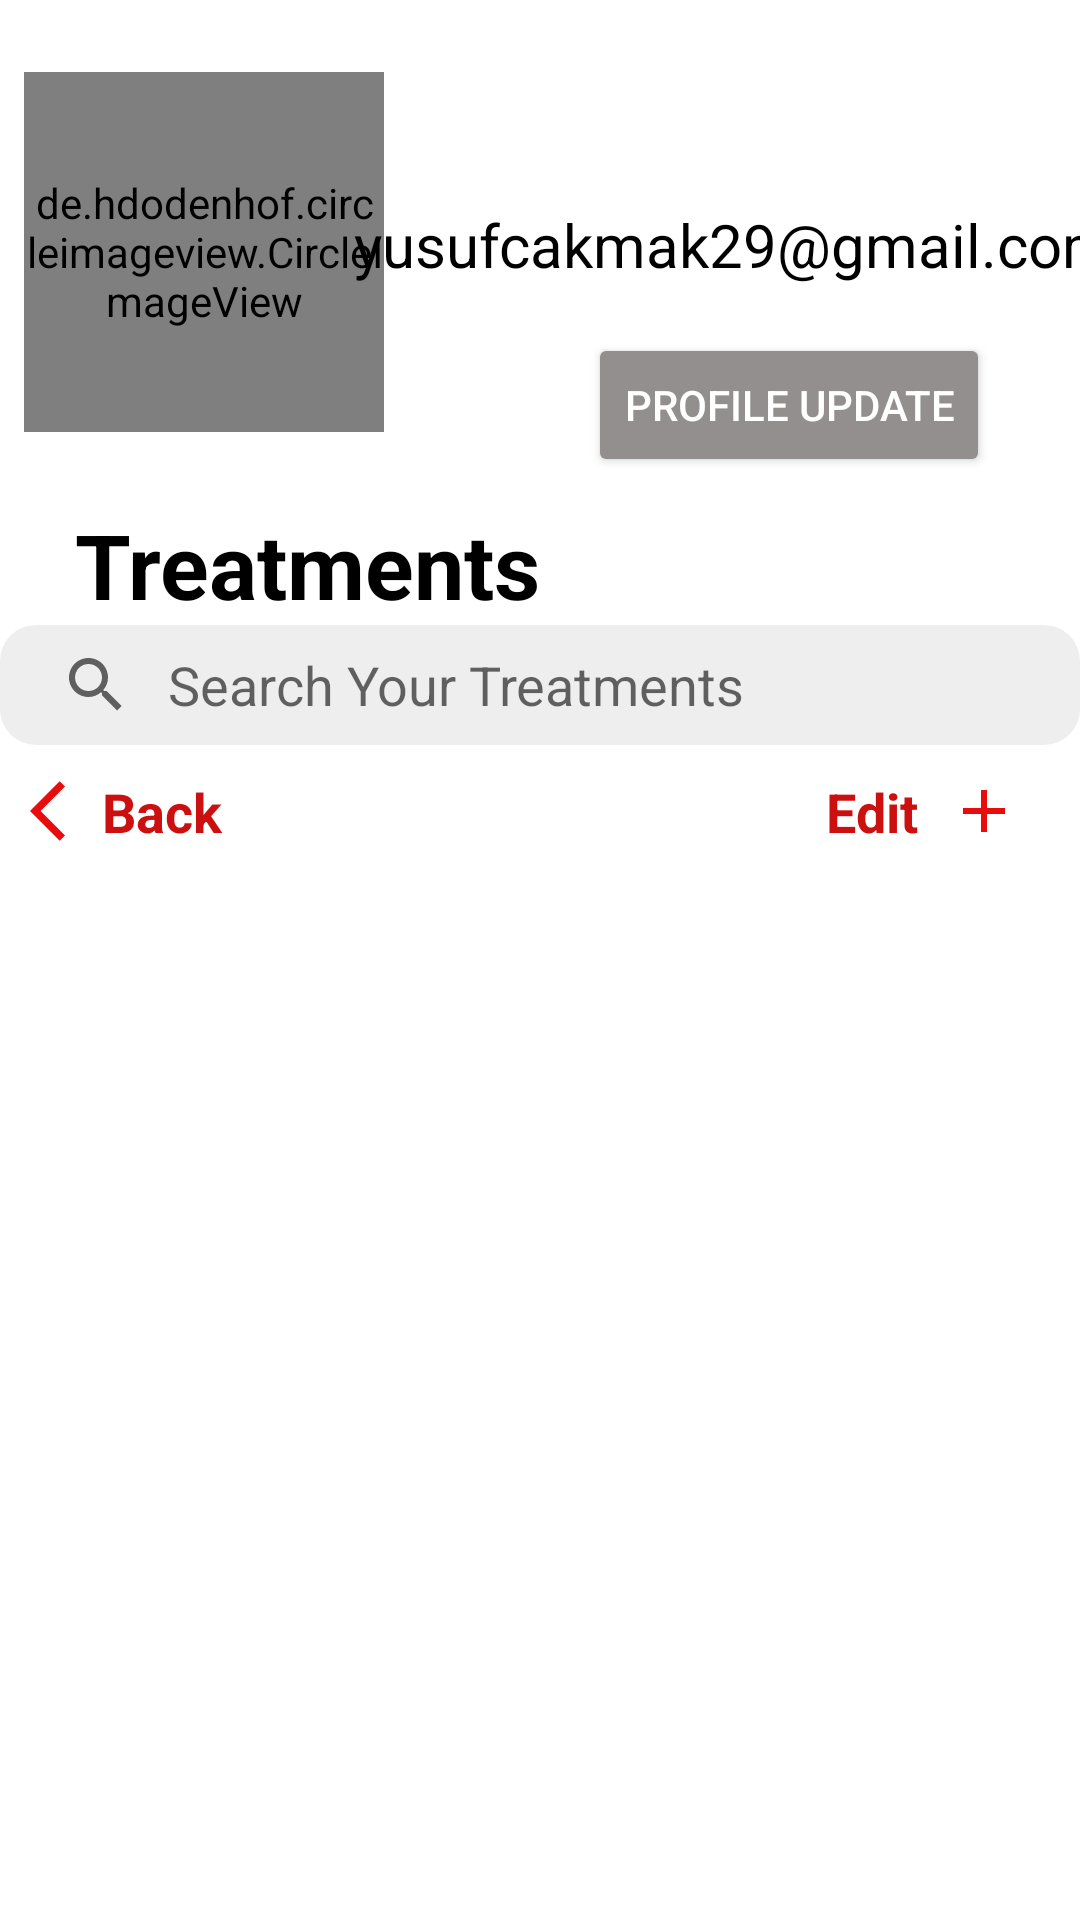

Point at icon controls on the screen. Image size 1080 × 1920, points as (x=x, y=y).
add: (x=984, y=811)
